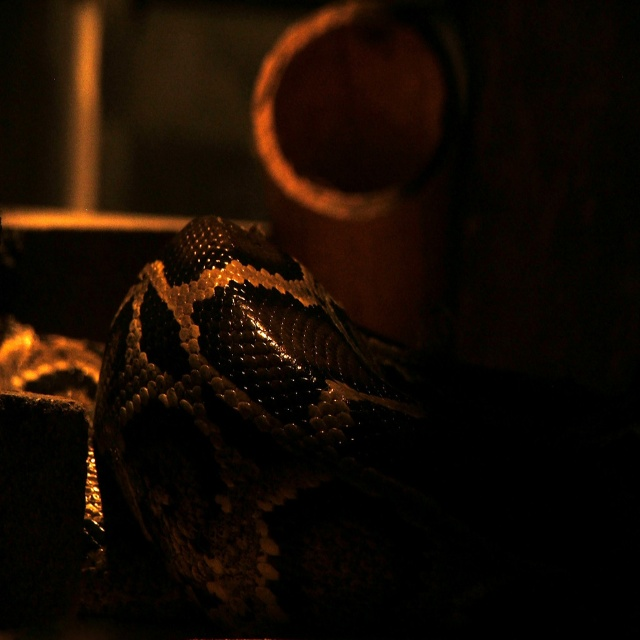Snake: (90, 166, 424, 599)
